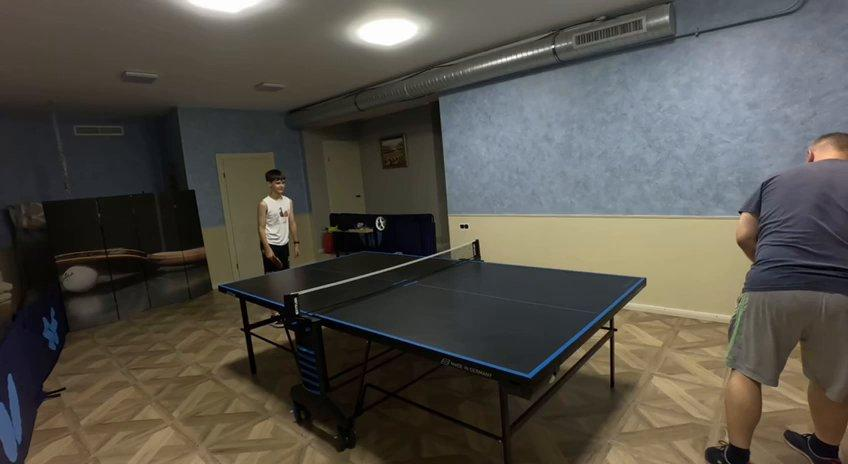Net: (284, 239, 479, 321)
Player1: (704, 132, 847, 463), (257, 169, 299, 271)
Table: (220, 252, 646, 379)
